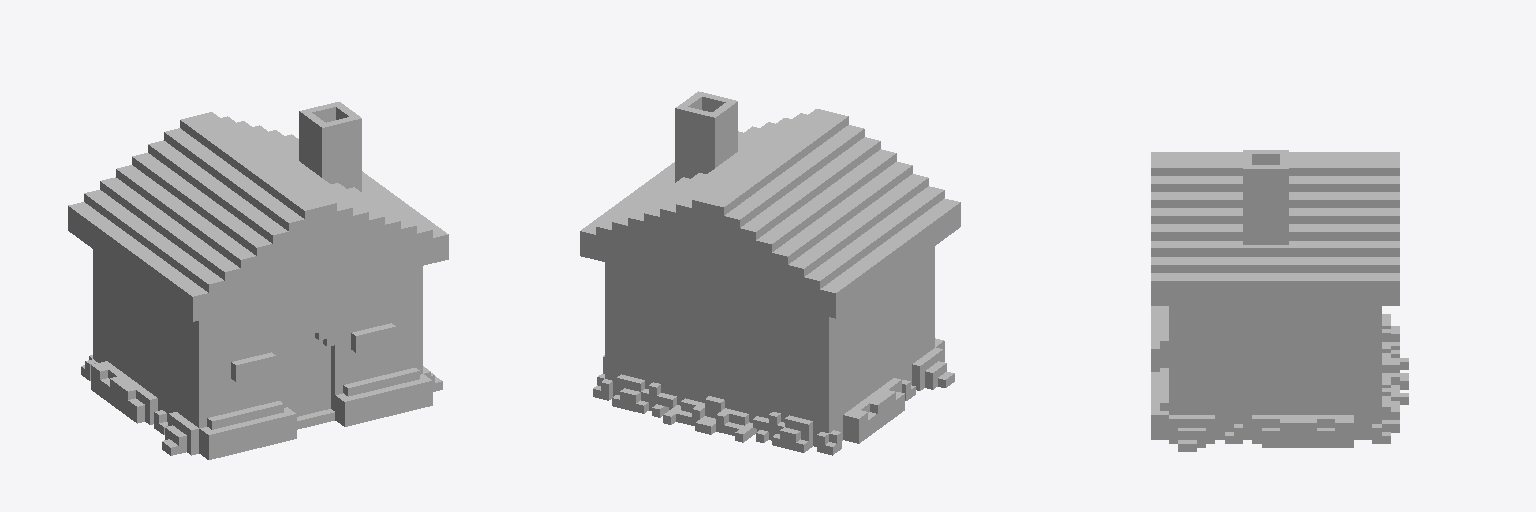
The model's file is house.obj.
3 views of the same model, side by side, from view 1: azimuth 30°, elevation 25°; view 2: azimuth 150°, elevation 25°; view 3: azimuth 270°, elevation 25° (orthographic).
Parts seen in each view (by area): view 1: object 1; view 2: object 1; view 3: object 1.
Part boxes in pixels (left/top/right/bottom): object 1: left=68, top=102, right=448, bottom=459; object 1: left=580, top=91, right=960, bottom=455; object 1: left=1151, top=150, right=1408, bottom=451.
Size of the model in its own units: 3.4 by 3.1 by 2.8.